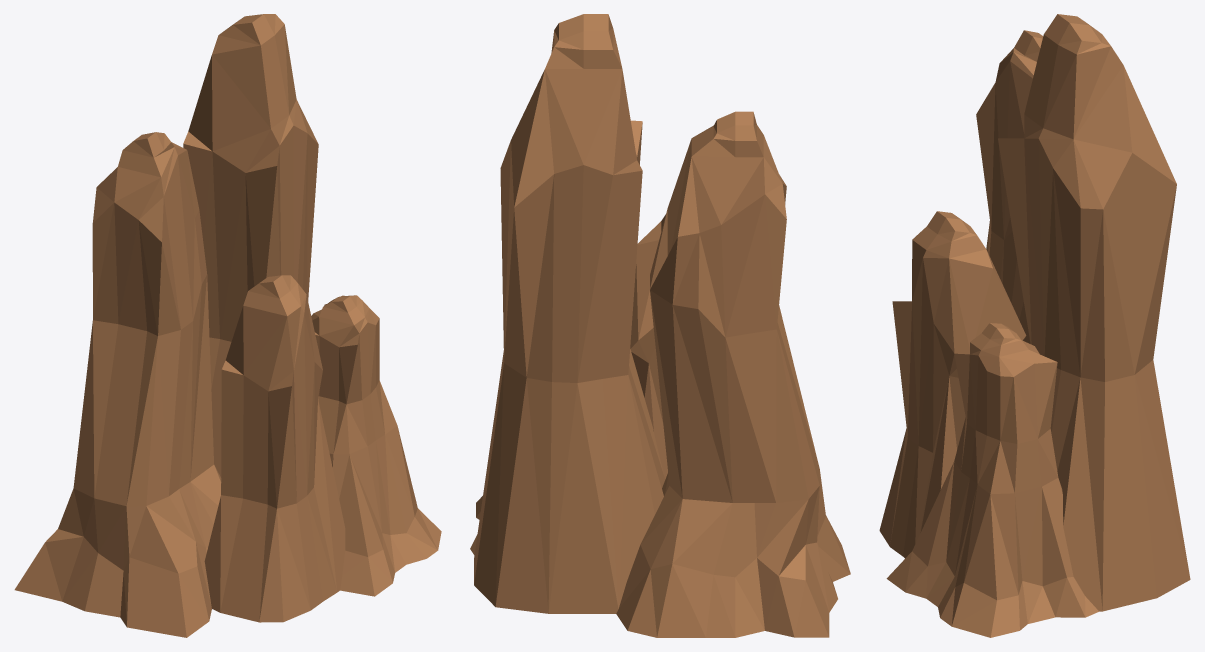
The model's file is Rock_11.fbx.
The picture shows the model from 3 angles, left to right: view 1: azimuth 30°, elevation 25°; view 2: azimuth 150°, elevation 25°; view 3: azimuth 270°, elevation 25°; orthographic projection. The views are drawn at different scales.
Visible parts, largest first — view 1: Rock_11; view 2: Rock_11; view 3: Rock_11.
Boxes of the visible parts, x1,y1,x2,y2 form: Rock_11: [14, 14, 441, 637]; Rock_11: [470, 14, 850, 637]; Rock_11: [879, 14, 1190, 637].
Size of the model in its own units: 123 by 83.92 by 162.
